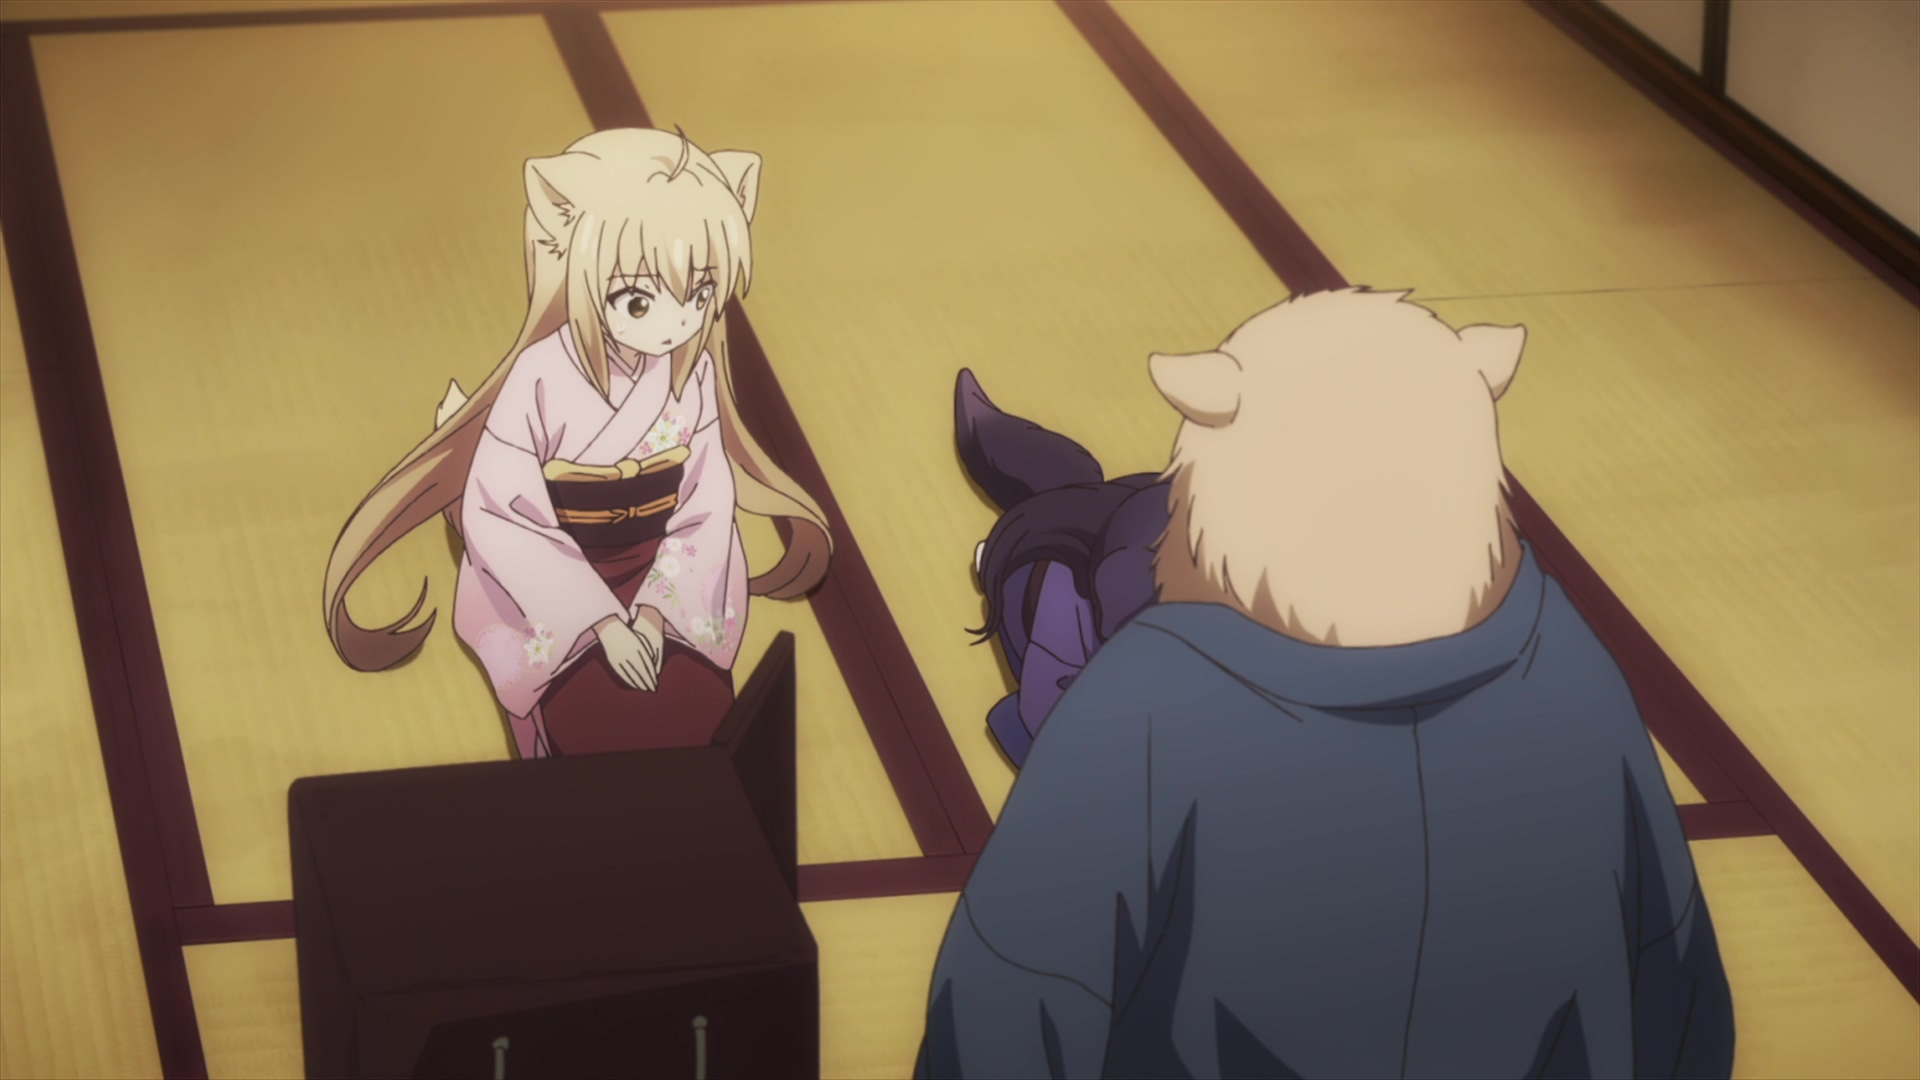柚: (320, 123, 833, 761)
皋: (951, 364, 1174, 742)
药店老板: (915, 287, 1738, 1080)
